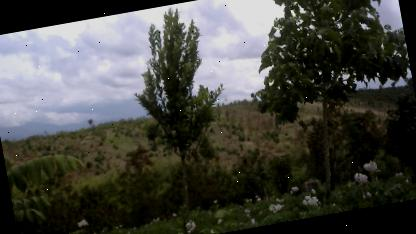tree: (230, 0, 416, 203), (118, 0, 247, 217)
